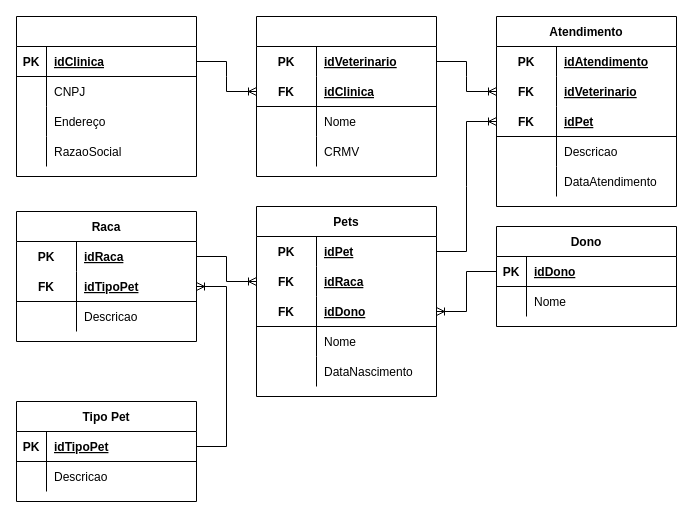
Some shapes in this 693 by 518 pixel diagram are drawn without their labels. Each missing label, with the box of its shape:
Clinicas: (16, 16, 196, 176)
Veterinarios: (256, 16, 436, 176)
